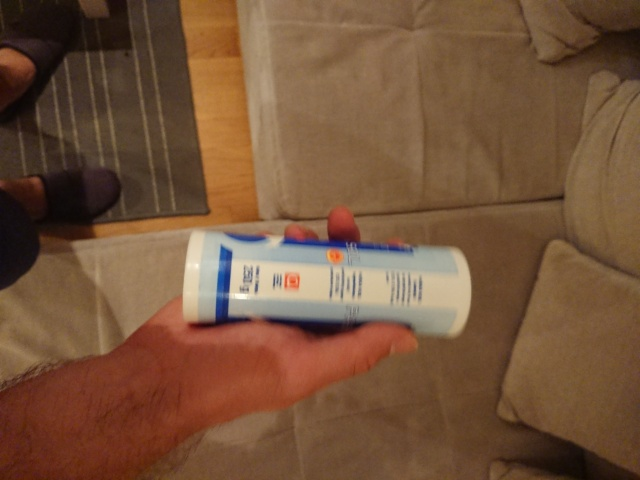Solana Pag Fine Sea Salt 250g: (180, 227, 474, 342)
